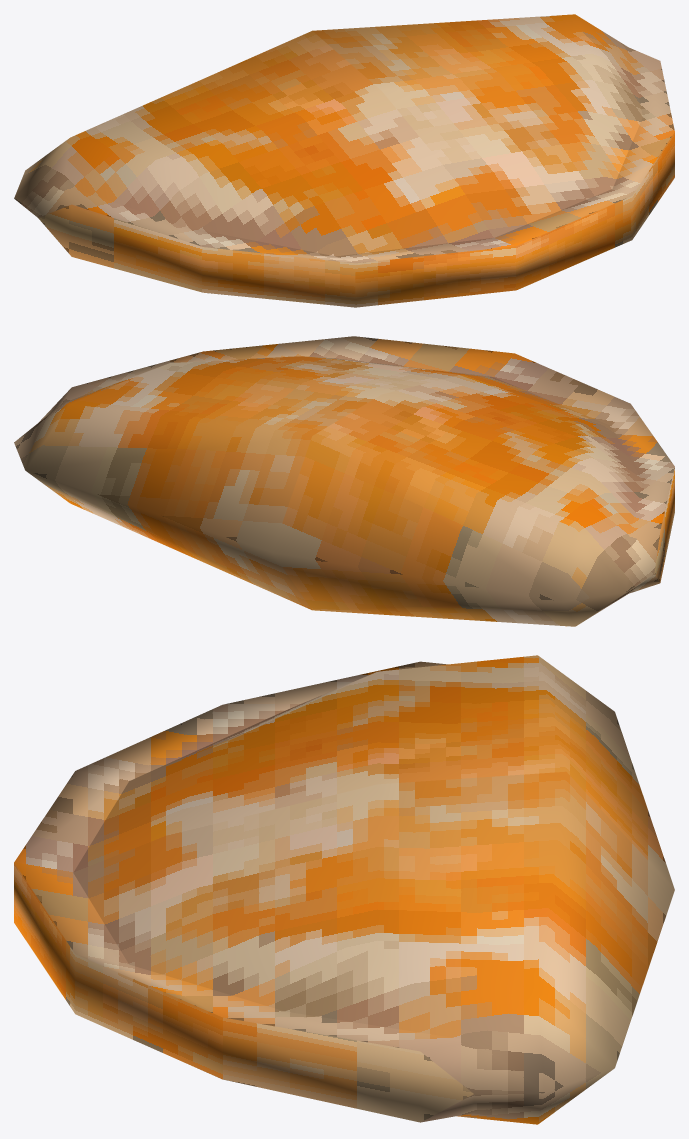
File: edb_filled_pastry_l0.fbx
3 renders of one model, top to bottom at view 1: azimuth 30°, elevation 25°; view 2: azimuth 150°, elevation 25°; view 3: azimuth 270°, elevation 25°, orthographic. The views are drawn at different scales.
Parts seen in each view (by area): view 1: mesh_node; view 2: mesh_node; view 3: mesh_node.
Part boxes in pixels (<box>): mesh_node: <box>14,14,674,307</box>; mesh_node: <box>14,336,674,626</box>; mesh_node: <box>14,655,674,1124</box>.
Size of the model in its own units: 0.1301 by 0.0352 by 0.089.
